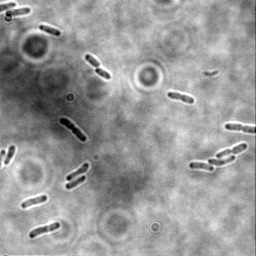Dividing: (59, 117, 88, 143), (215, 141, 249, 160), (28, 221, 62, 239), (166, 90, 196, 105), (223, 121, 255, 135)
Rod: (65, 161, 90, 183), (20, 192, 49, 210), (207, 155, 237, 168), (65, 174, 87, 191), (5, 5, 32, 18), (38, 23, 63, 37), (188, 160, 215, 172), (84, 53, 102, 69), (4, 144, 17, 166), (95, 67, 112, 81)
